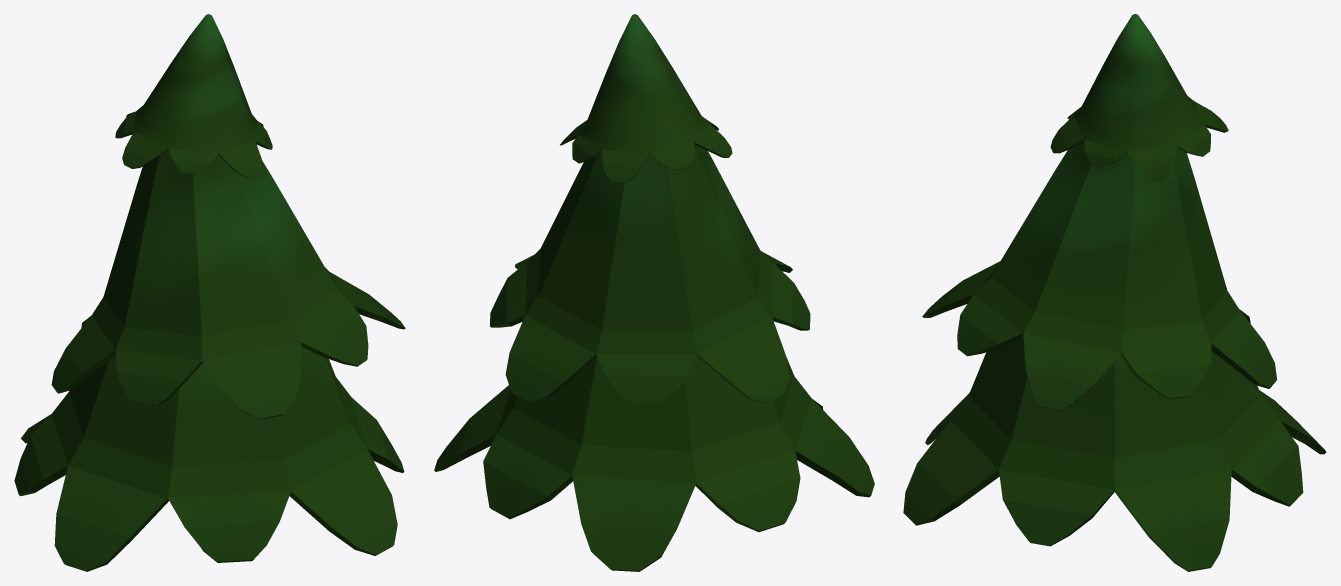
The picture shows the model from 3 angles, left to right: view 1: azimuth 30°, elevation 25°; view 2: azimuth 150°, elevation 25°; view 3: azimuth 270°, elevation 25°; orthographic projection.
Parts seen in each view (by area): view 1: 3levsTort; view 2: 3levsTort; view 3: 3levsTort.
Boxes of the visible parts, x1,y1,x2,y2 form: 3levsTort: (14,14,405,571); 3levsTort: (434,14,874,571); 3levsTort: (903,14,1326,571).
Size of the model in its own units: 1.26 by 1.57 by 1.27.
